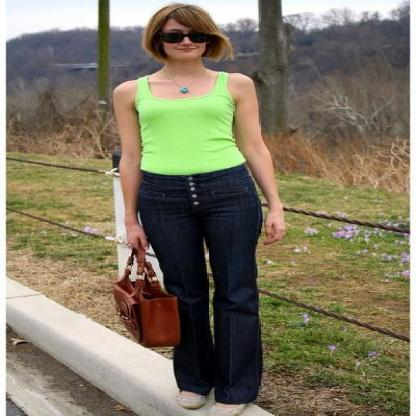pants: (134, 158, 264, 404)
shirt: (136, 84, 245, 174)
